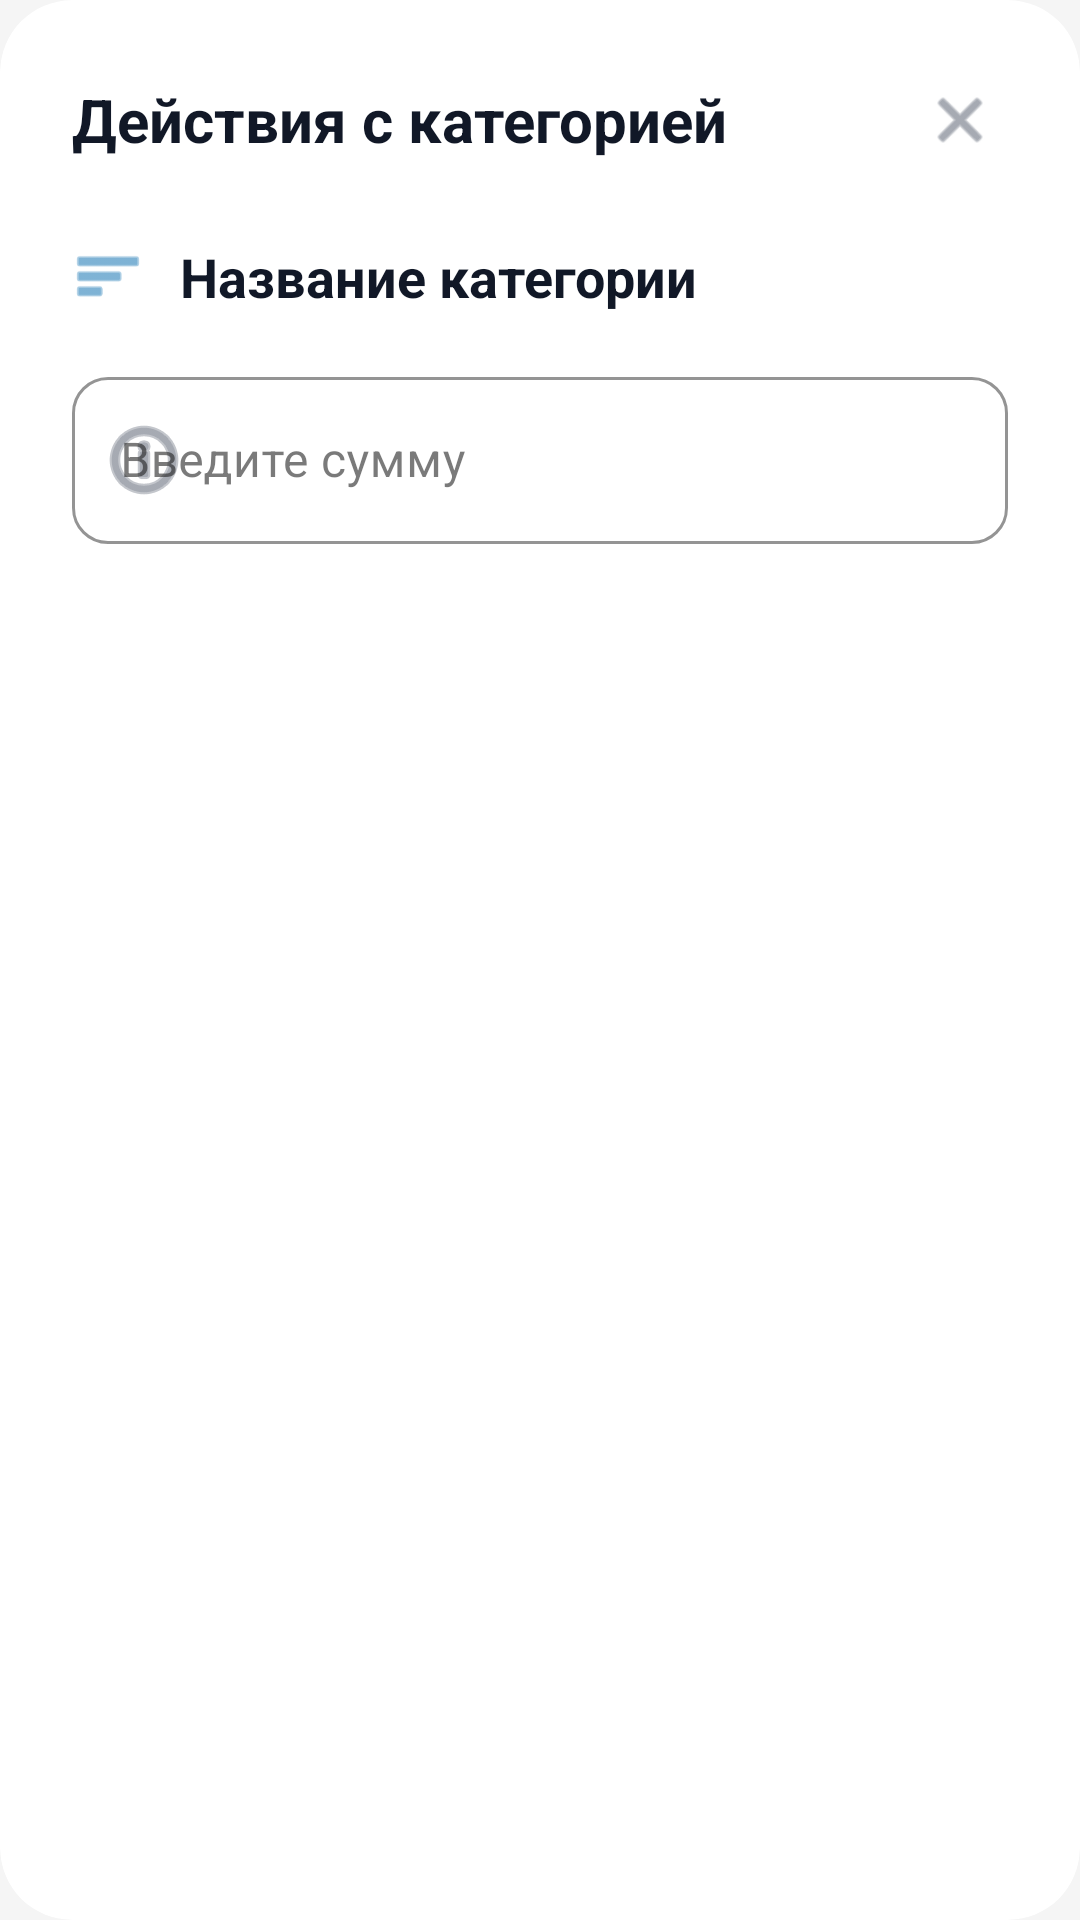

Icons on this 1080px×1920px Android screen, each with its box as (x1, y1, x2, y2):
close clear cancel: (938, 98, 982, 142)
sort by size: (77, 256, 139, 297)
